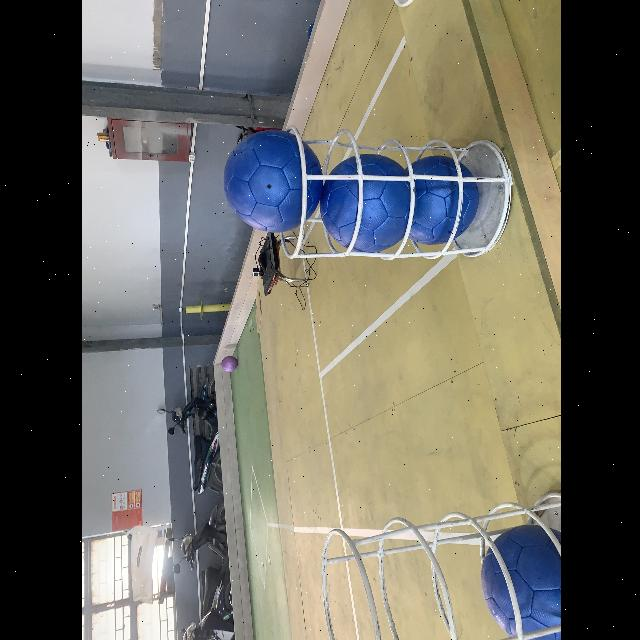B: (221, 130, 323, 232), (478, 522, 560, 640), (319, 146, 409, 252), (408, 158, 480, 248)
